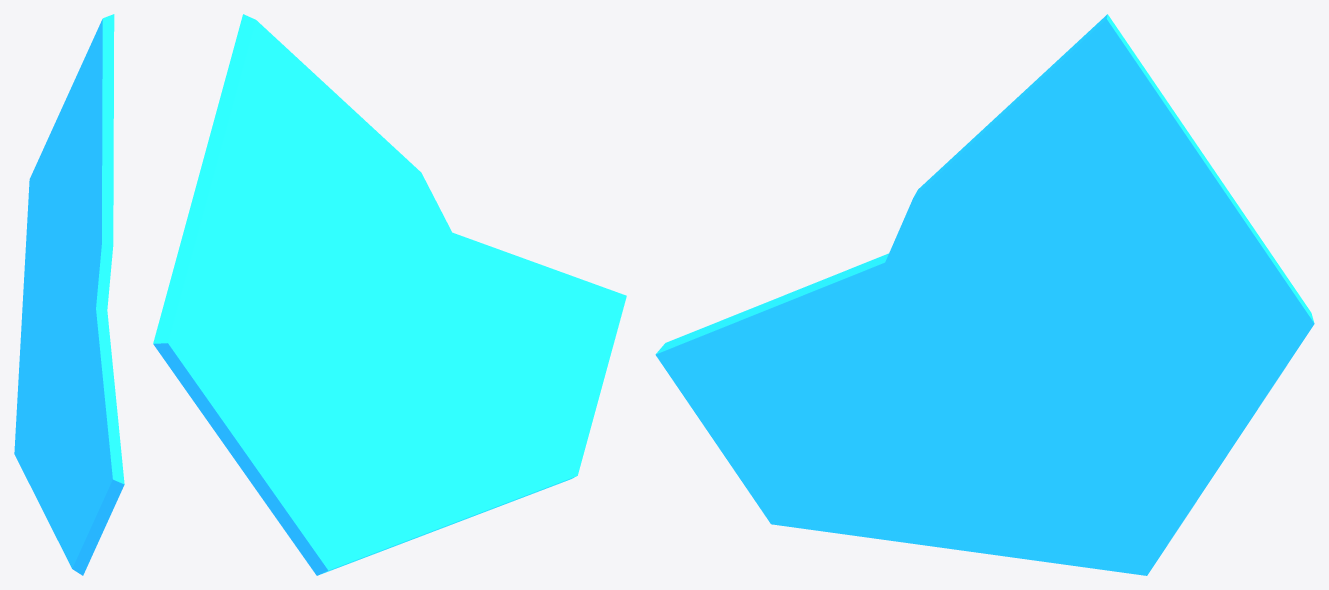
Rendered from Vaccine3_Shard2.fbx.
3 views of the same model, side by side, from view 1: azimuth 30°, elevation 25°; view 2: azimuth 150°, elevation 25°; view 3: azimuth 270°, elevation 25° (orthographic). The views are drawn at different scales.
Parts seen in each view (by area): view 1: barrier_shard.002; view 2: barrier_shard.002; view 3: barrier_shard.002.
Boxes of the visible parts, left/top/right/bottom form: barrier_shard.002: left=14, top=14, right=124, bottom=575; barrier_shard.002: left=153, top=14, right=626, bottom=575; barrier_shard.002: left=655, top=14, right=1314, bottom=575.
Bounding box in the file's own units: 24.97 × 65.23 × 64.06.
